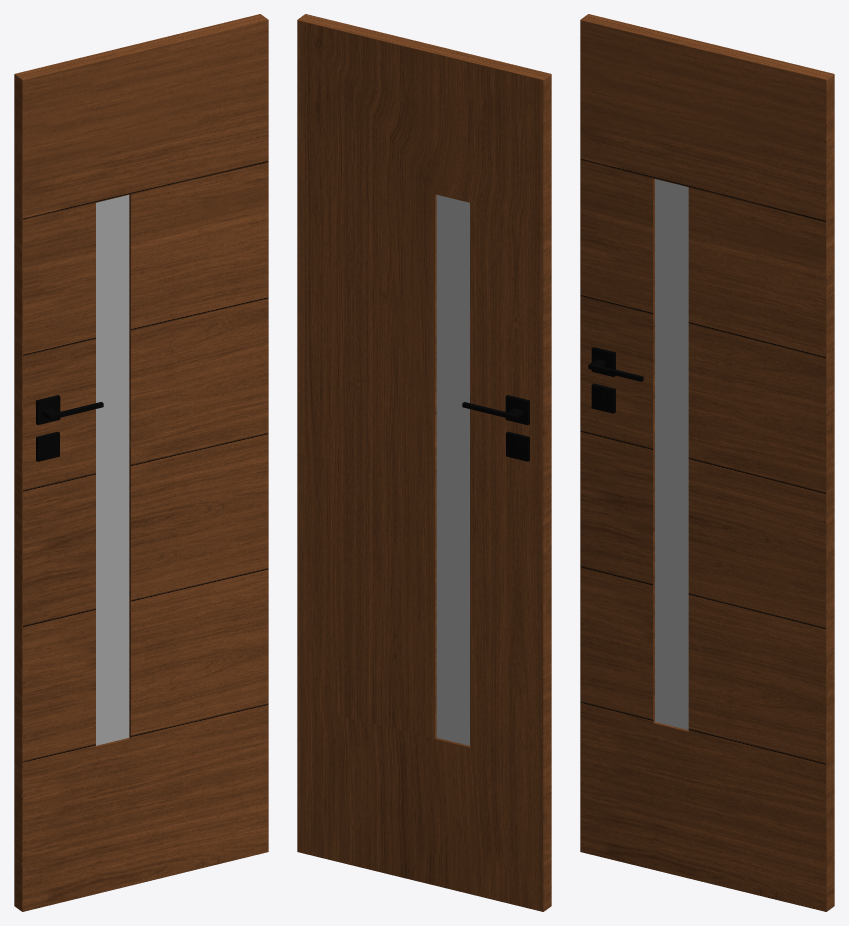
The model's file is VE_7_3b_door.glb.
The picture shows the model from 3 angles, left to right: view 1: azimuth 30°, elevation 25°; view 2: azimuth 150°, elevation 25°; view 3: azimuth 330°, elevation 25°; orthographic projection.
Parts seen in each view (by area): view 1: V_E_7__3b_door; view 2: V_E_7__3b_door; view 3: V_E_7__3b_door.
Part boxes in pixels (<box>): V_E_7__3b_door: <box>14,14,268,911</box>; V_E_7__3b_door: <box>297,14,551,911</box>; V_E_7__3b_door: <box>580,14,834,911</box>.
Bounding box in the file's own units: 0.5514 × 1.78 × 0.1089.
2 materials, 1 textured.
